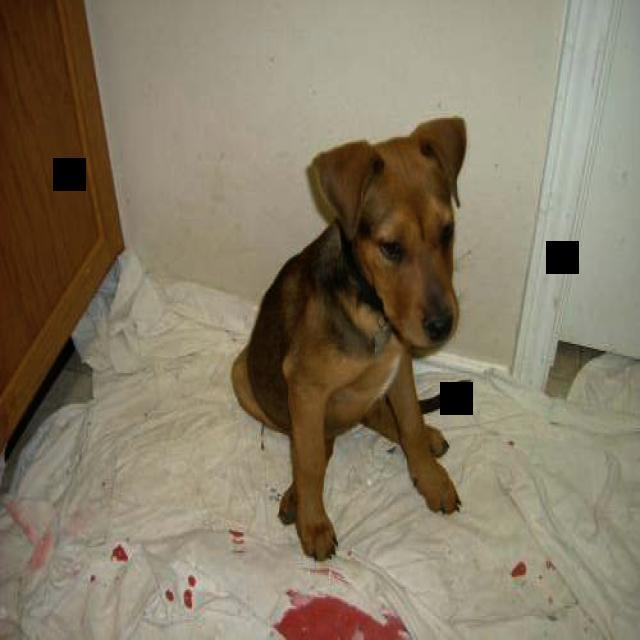adult_dog: (230, 109, 473, 564)
